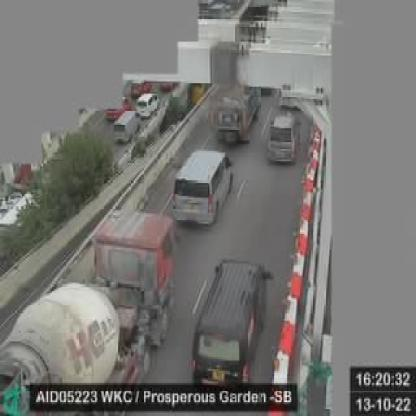Car: (191, 259, 273, 388), (170, 146, 234, 228), (265, 112, 299, 164), (114, 110, 140, 147), (137, 91, 161, 118)
Truck: (1, 212, 177, 416), (210, 83, 260, 146)
